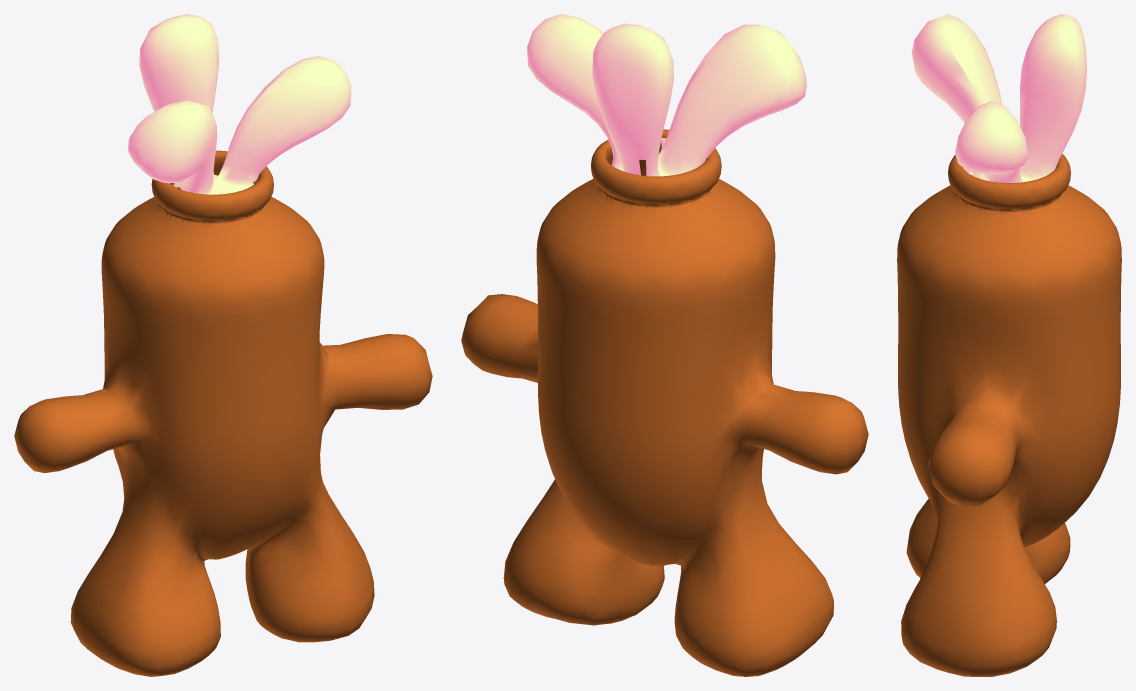
Rendered from Delete.fbx.
3 renders of one model, left to right at view 1: azimuth 30°, elevation 25°; view 2: azimuth 150°, elevation 25°; view 3: azimuth 270°, elevation 25°, orthographic. The views are drawn at different scales.
Parts seen in each view (by area): view 1: Cylinder; view 2: Cylinder; view 3: Cylinder.
Boxes of the visible parts, bbox=[...] form: Cylinder: bbox=[14, 14, 432, 676]; Cylinder: bbox=[461, 14, 868, 676]; Cylinder: bbox=[897, 14, 1121, 676].
Bounding box in the file's own units: 73.91 × 110 × 37.09.
